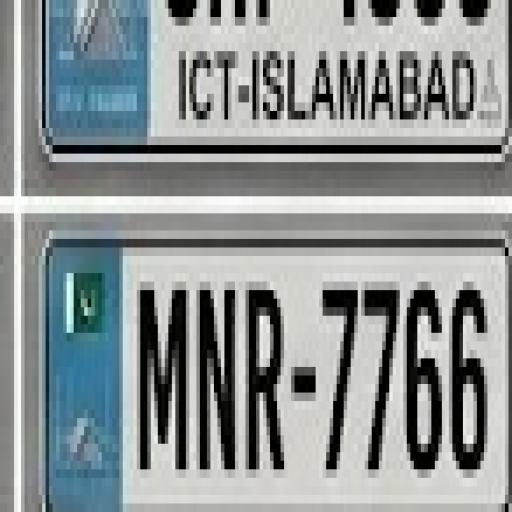6: (448, 278, 498, 480), (405, 284, 445, 490)
7: (317, 275, 360, 483), (364, 275, 399, 485)
M: (134, 275, 192, 486)
N: (196, 275, 240, 482)
R: (244, 275, 287, 483)
